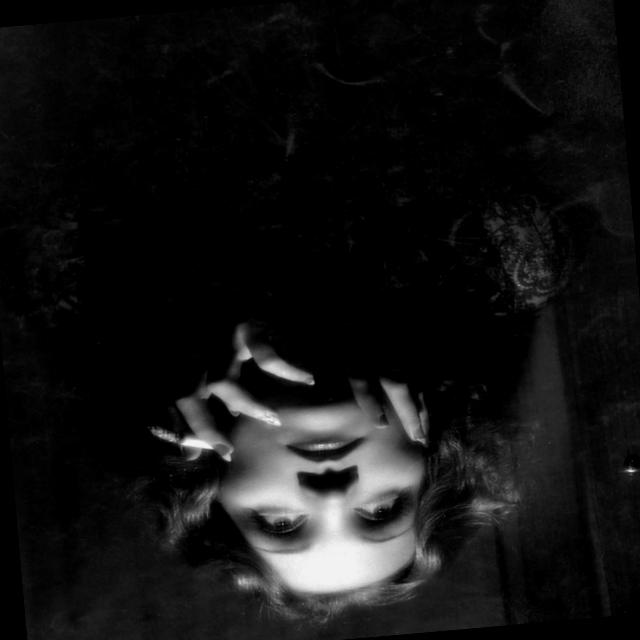smoke: (147, 420, 212, 459)
